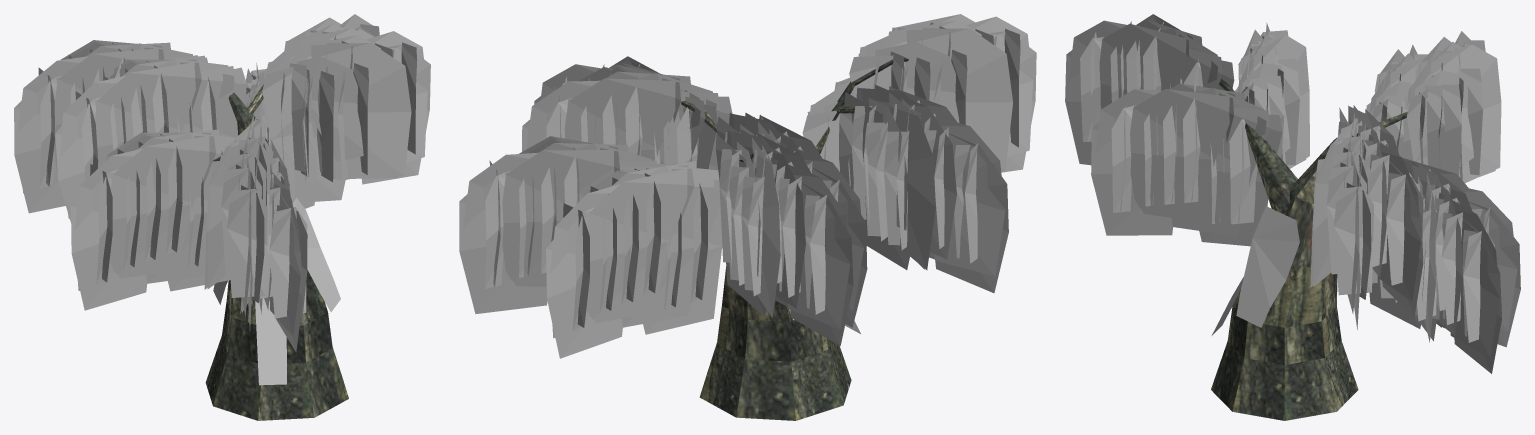
File: Willow_002.fbx
3 renders of one model, left to right at view 1: azimuth 30°, elevation 25°; view 2: azimuth 150°, elevation 25°; view 3: azimuth 270°, elevation 25°, orthographic. The views are drawn at different scales.
Parts seen in each view (by area): view 1: Tree_Saule_Leaves2, Tree_Saule_Trunk2, Tree_Saule_Leaves2_details; view 2: Tree_Saule_Leaves2, Tree_Saule_Trunk2; view 3: Tree_Saule_Leaves2, Tree_Saule_Trunk2, Tree_Saule_Leaves2_details.
Part boxes in pixels (x1=…): Tree_Saule_Leaves2: x1=14, y1=14, x2=430, y2=352; Tree_Saule_Trunk2: x1=131, y1=49, x2=348, y2=420; Tree_Saule_Leaves2_details: x1=213, y1=197, x2=340, y2=385; Tree_Saule_Leaves2: x1=459, y1=14, x2=1036, y2=358; Tree_Saule_Trunk2: x1=681, y1=57, x2=908, y2=420; Tree_Saule_Leaves2: x1=1065, y1=14, x2=1520, y2=373; Tree_Saule_Trunk2: x1=1211, y1=75, x2=1433, y2=420; Tree_Saule_Leaves2_details: x1=1211, y1=206, x2=1299, y2=335.
Bounding box in the file's own units: 2345 × 1803 × 2306.
